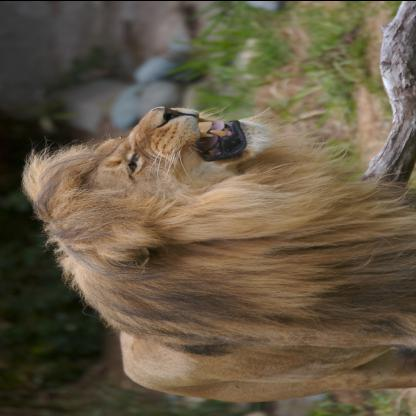lion: (14, 98, 342, 308)
